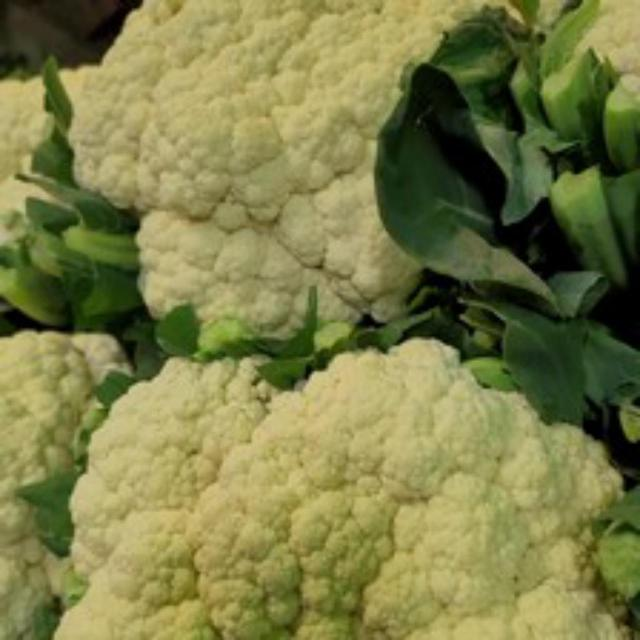cauliflower: (54, 334, 637, 637)
